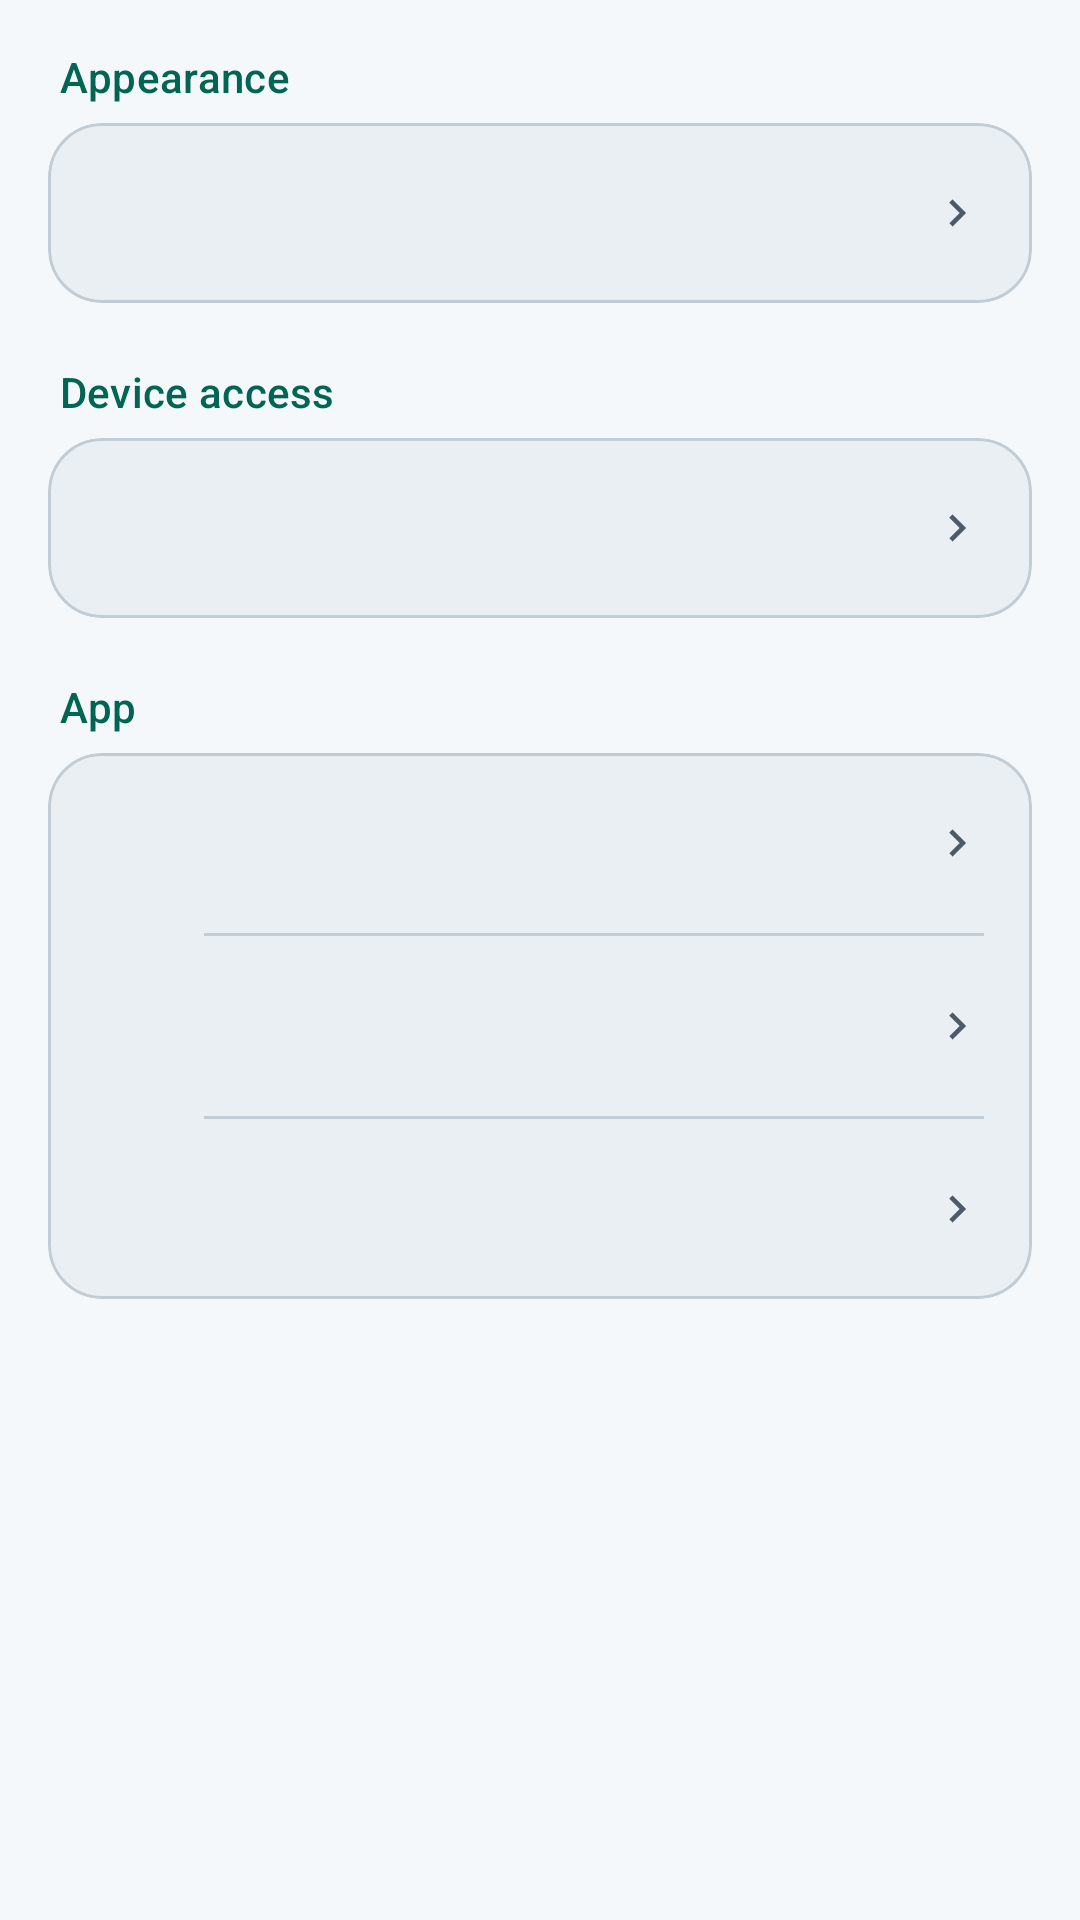

Where icons sit on this 1080×1920 app screen, as Rect(x1, y1, x2, y2):
chevron right: Rect(949, 199, 966, 227), Rect(949, 514, 966, 542), Rect(949, 829, 966, 857), Rect(949, 1012, 966, 1040), Rect(949, 1195, 966, 1223)
